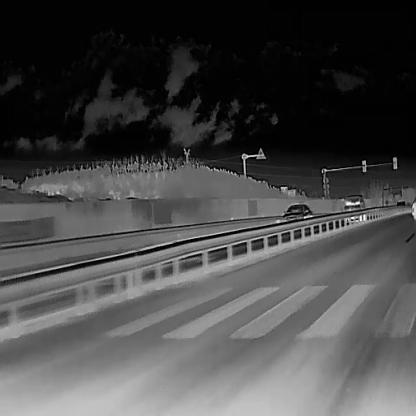car: (342, 194, 366, 222), (281, 203, 312, 223), (395, 200, 406, 206)
